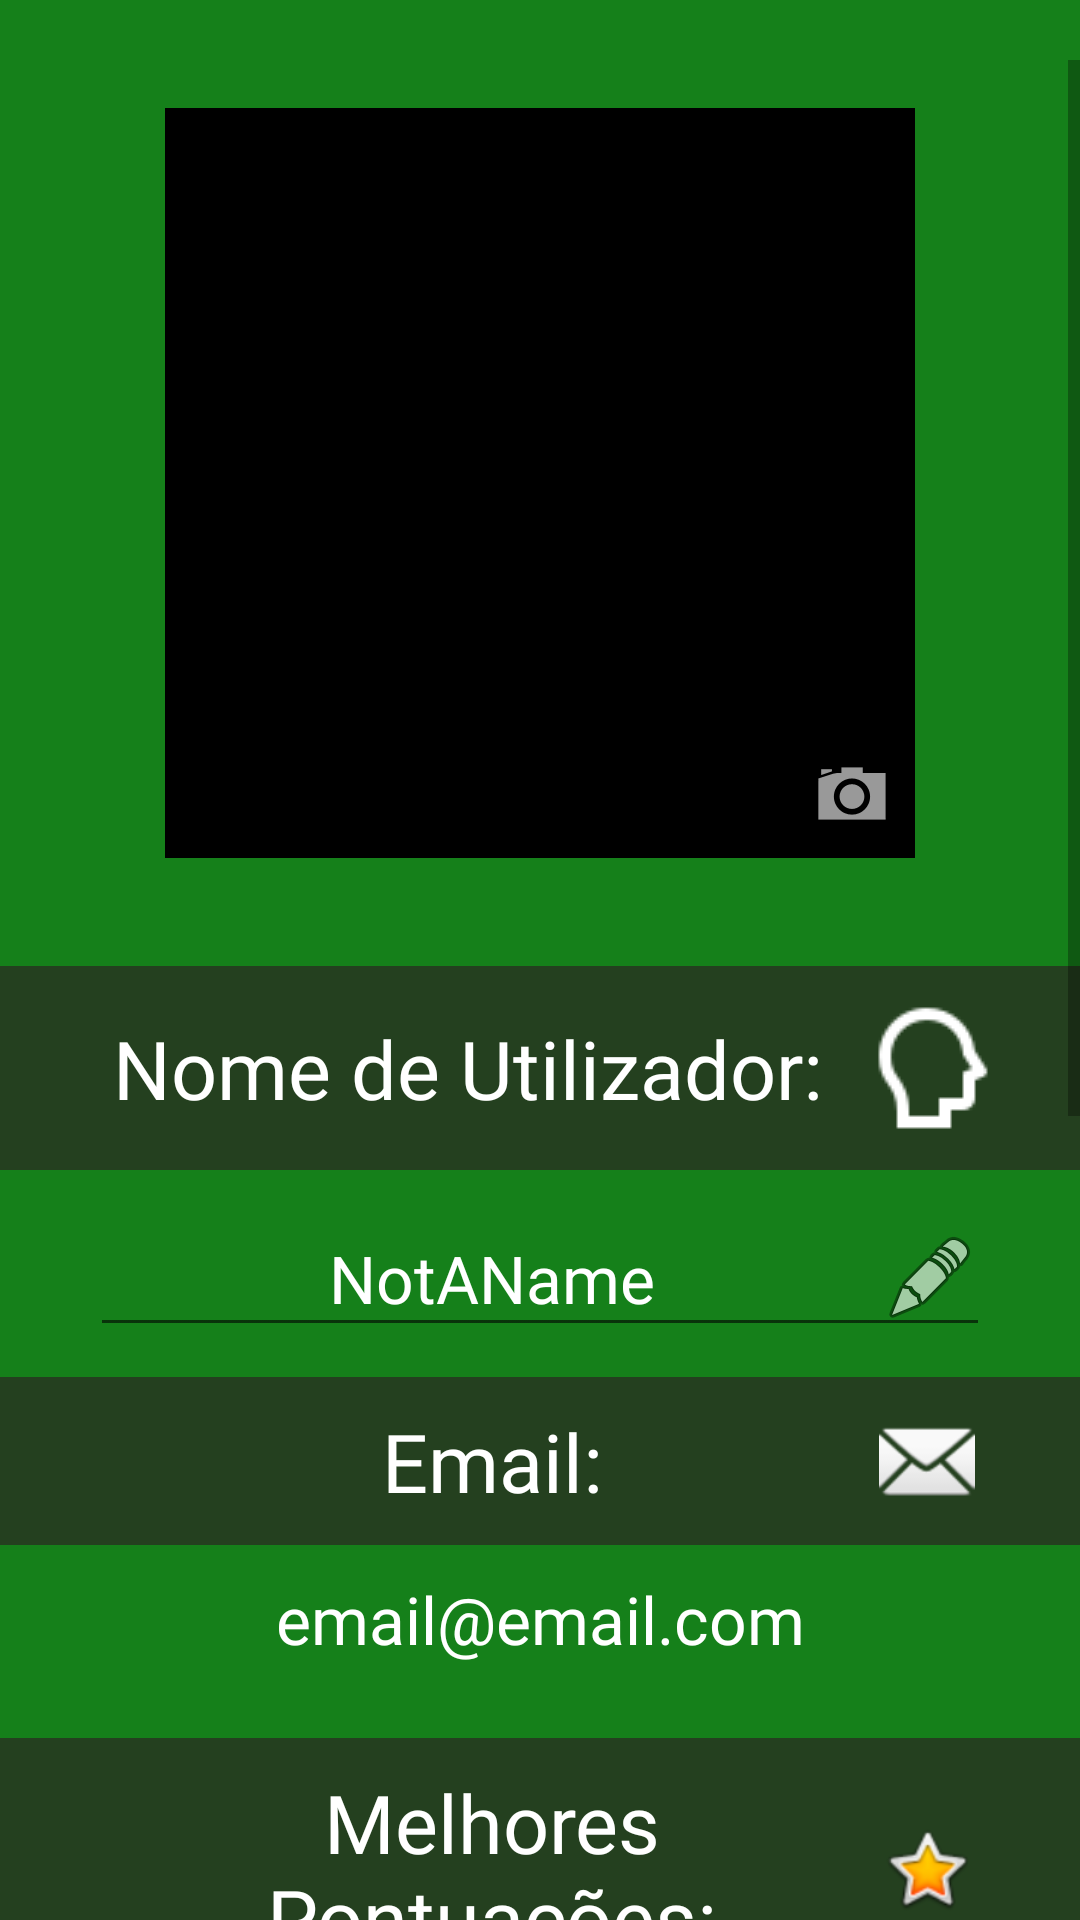

Screen size 1080 × 1920. Icon name, then its center in pixels as point (x, y):
camera: point (852, 793)
